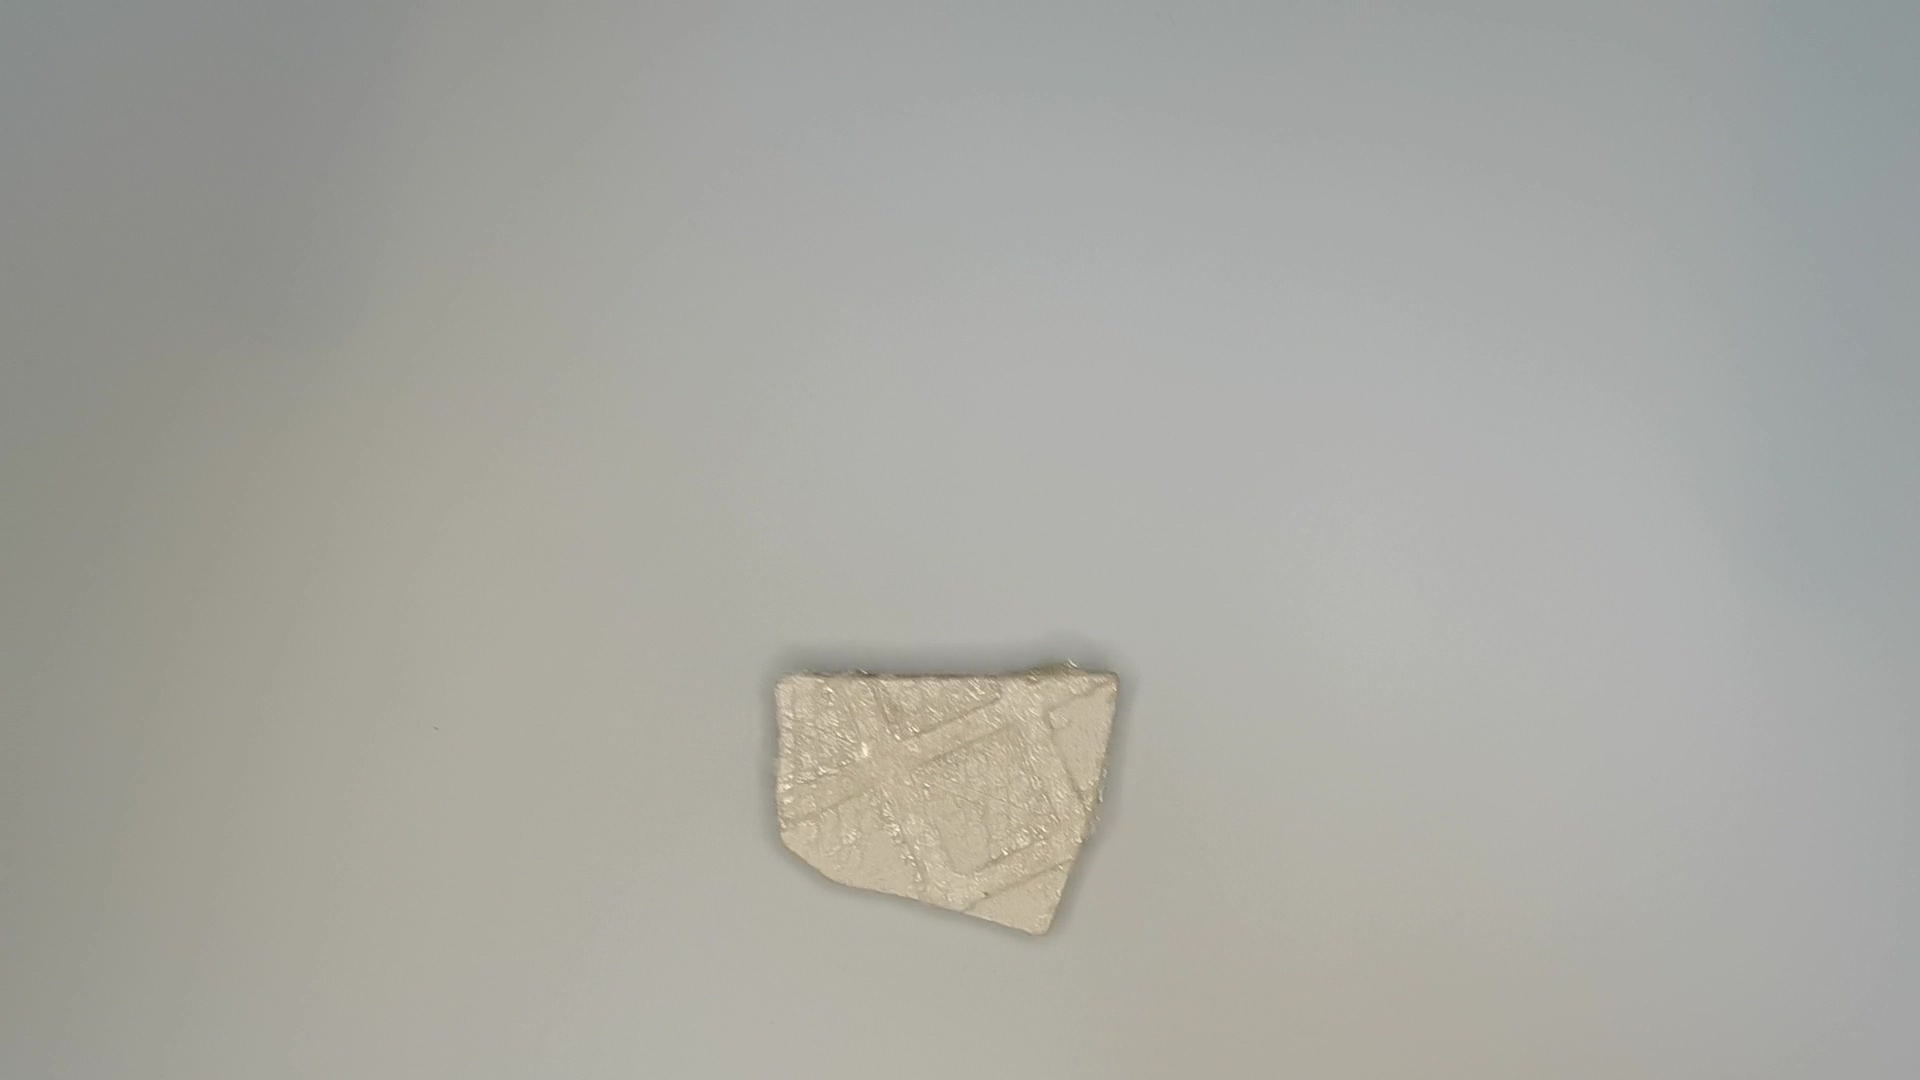ceramic: (766, 658, 1131, 953)
